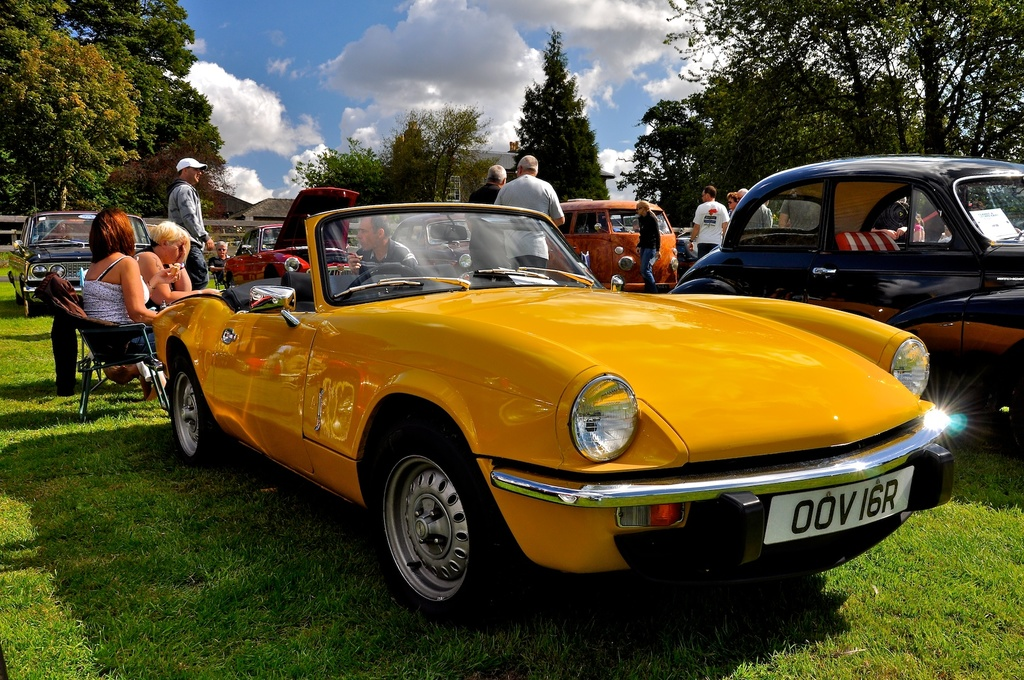Person: (81, 207, 165, 403), (490, 154, 566, 277), (130, 220, 220, 306), (162, 158, 215, 286), (463, 164, 509, 283), (345, 213, 416, 275), (684, 188, 731, 259), (636, 200, 663, 287), (206, 238, 233, 282)
